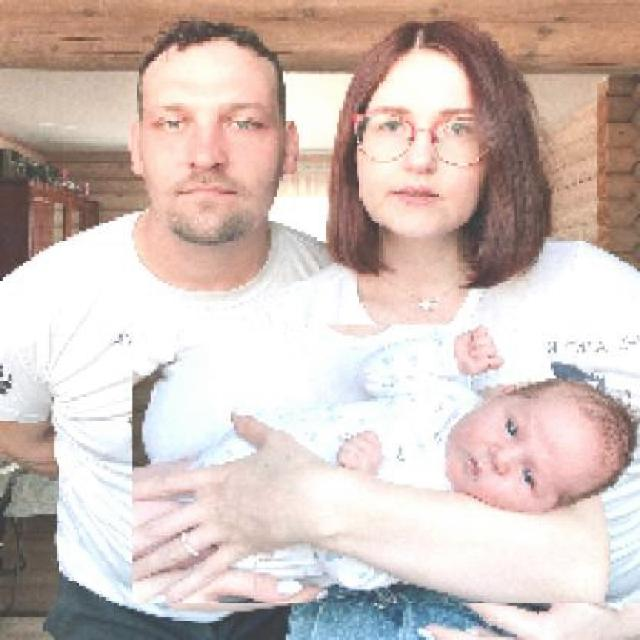child: (131, 326, 640, 606)
